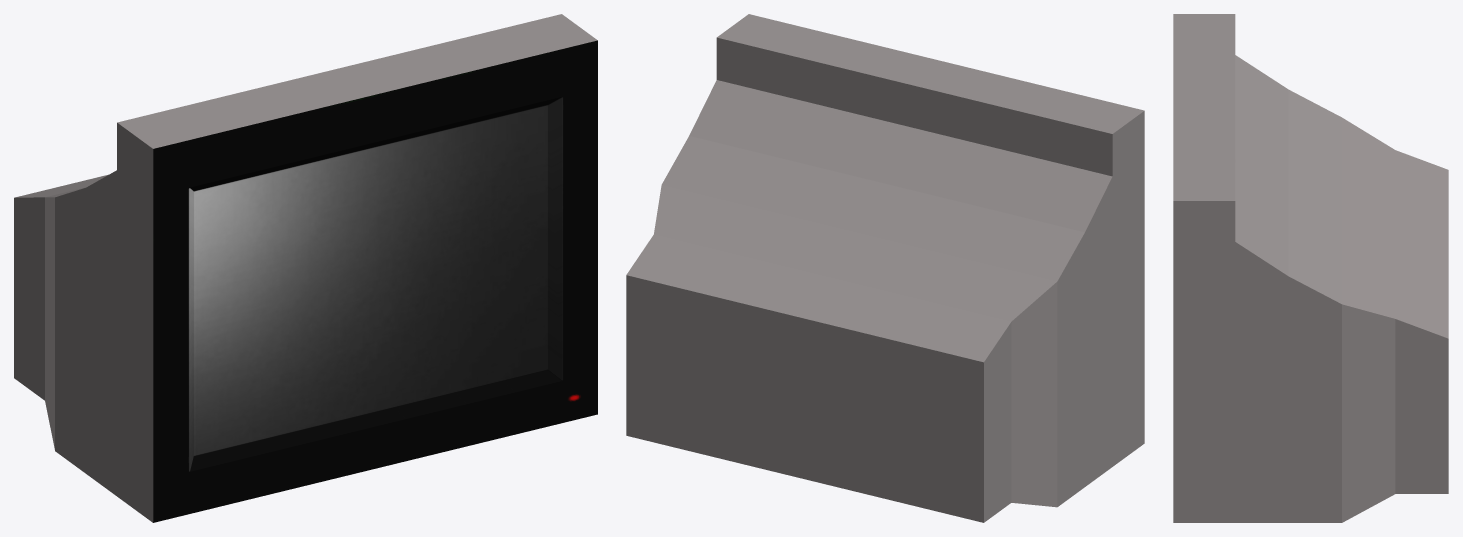
Rendered from tele.FBX.
3 renders of one model, left to right at view 1: azimuth 30°, elevation 25°; view 2: azimuth 150°, elevation 25°; view 3: azimuth 270°, elevation 25°, orthographic. The views are drawn at different scales.
Visible parts, largest first — view 1: Box001; view 2: Box001; view 3: Box001.
Part boxes in pixels (x1,y1,x2,y2): Box001: [14, 14, 597, 522]; Box001: [626, 14, 1144, 522]; Box001: [1173, 14, 1448, 522].
Bounding box in the file's own units: 49.78 × 40 × 31.
